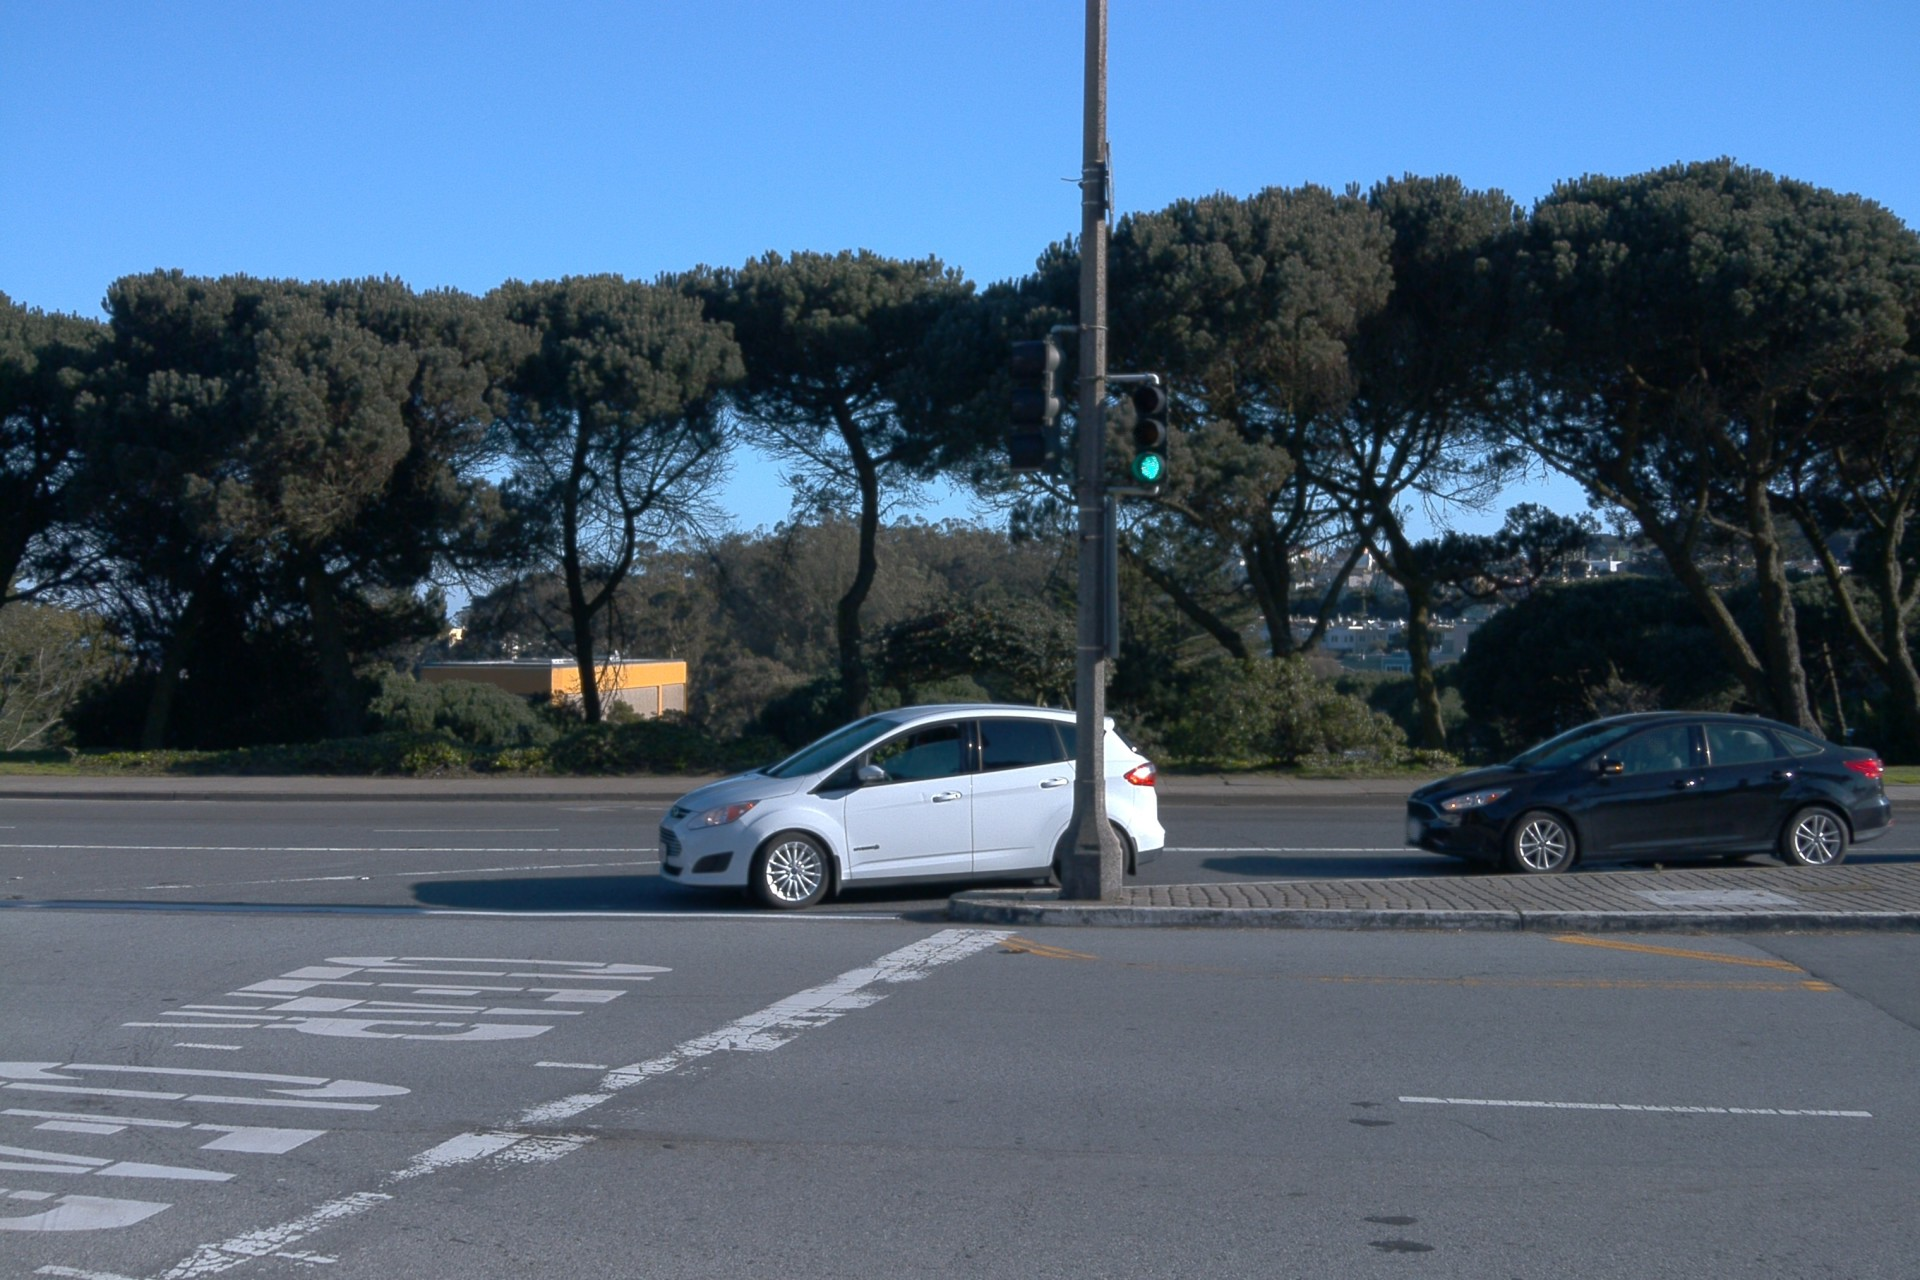TYPE_VEHICLE: (656, 699, 1167, 911), (1402, 709, 1894, 876)
